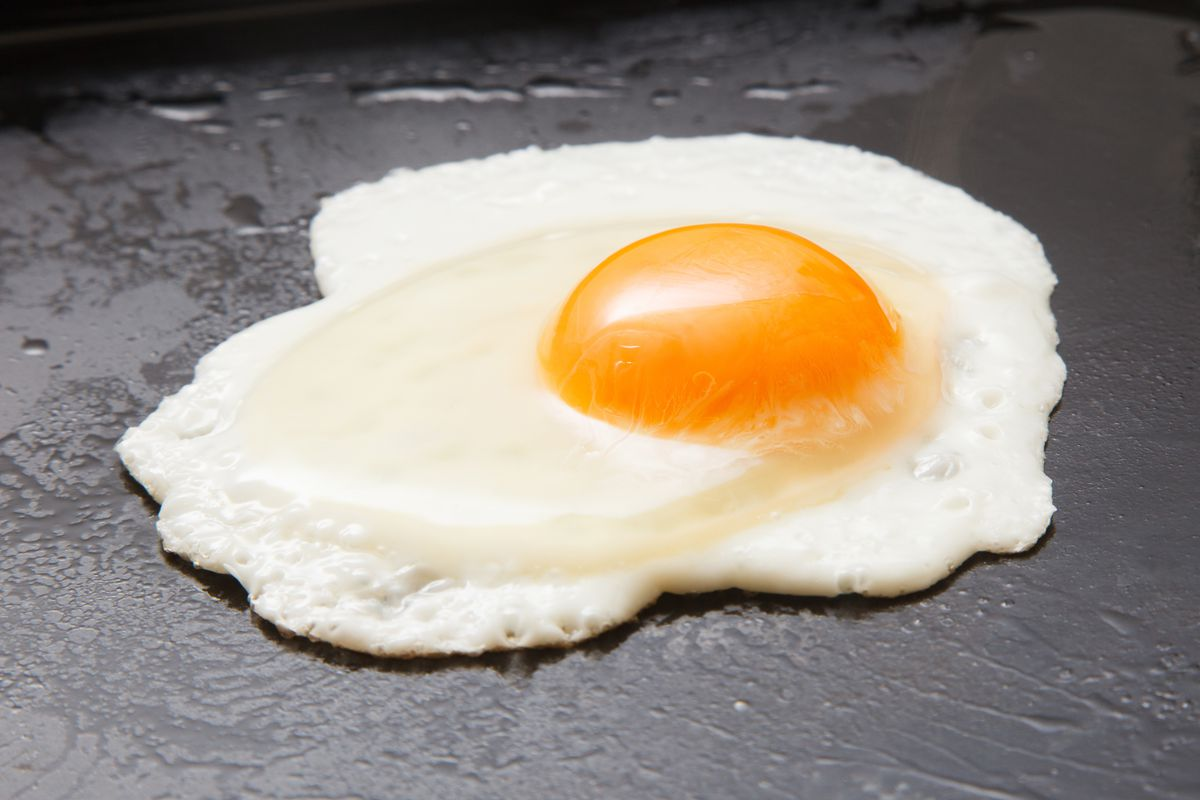fried egg: (248, 157, 981, 609)
